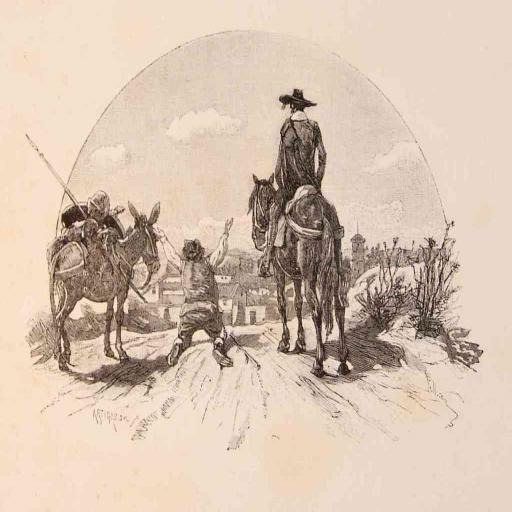horse: (248, 173, 350, 380)
